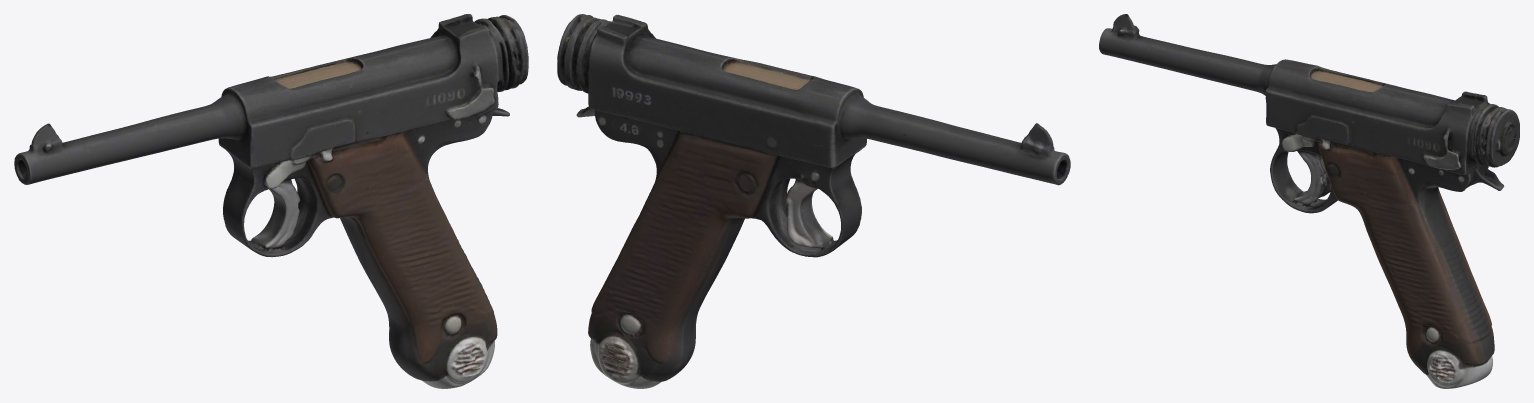
Rendered from Nambu Pistol.glb.
The picture shows the model from 3 angles, left to right: view 1: azimuth 30°, elevation 25°; view 2: azimuth 150°, elevation 25°; view 3: azimuth 330°, elevation 25°; orthographic projection. The views are drawn at different scales.
Size of the model in its own units: 2 by 1.37 by 0.3008.
1 material, 1 textured.
